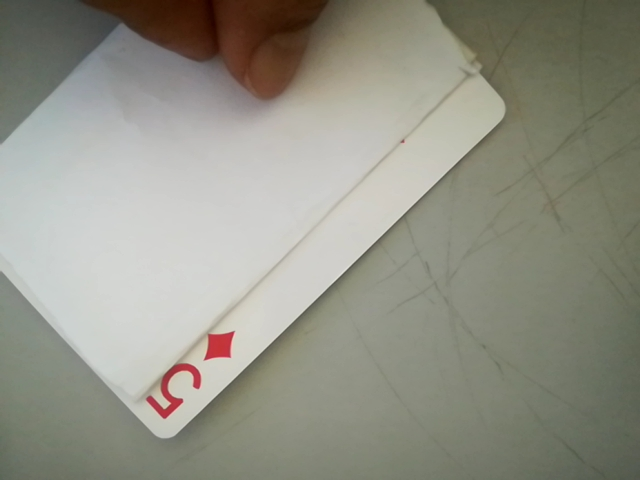fk 5: (136, 324, 241, 435)
